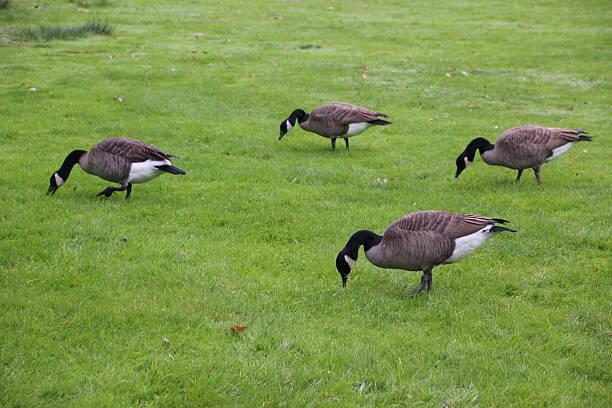Canadian-Goose: (334, 208, 504, 298), (42, 136, 186, 209), (451, 123, 598, 190), (279, 100, 388, 153)
